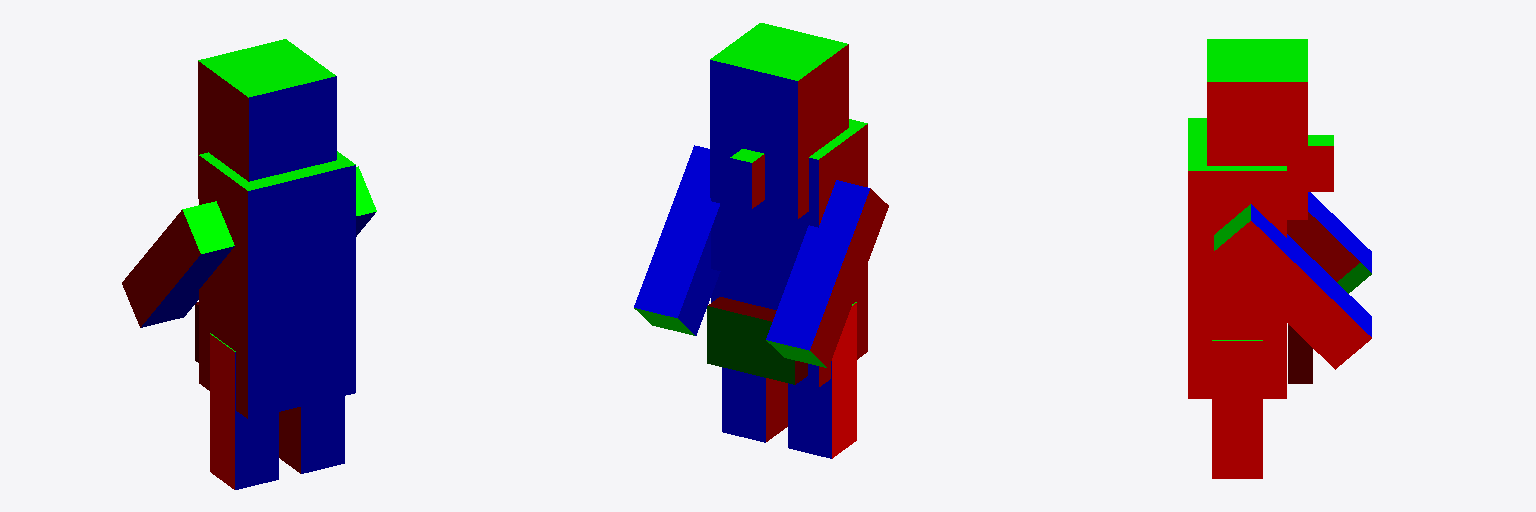
The picture shows the model from 3 angles: view 1: azimuth 30°, elevation 25°; view 2: azimuth 150°, elevation 25°; view 3: azimuth 270°, elevation 25°; orthographic projection.
Parts seen in each view (by area): view 1: ChunkerShirt, ChunkerHead, ChunkerArmLeft, ChunkerLegLeft, ChunkerLegRight, ChunkerArmRight; view 2: ChunkerHead, ChunkerShirt, ChunkerArmLeft, ChunkerArmRight, ChunkerLegLeft, cube, ChunkerLegRight, ChunkerNose; view 3: ChunkerShirt, ChunkerHead, ChunkerArmRight, ChunkerLegRight, ChunkerArmLeft, ChunkerNose, cube.
Boxes of the visible parts, box(x1,y1,x2,y2) form: ChunkerShirt: box(199, 151, 355, 418); ChunkerHead: box(198, 39, 336, 198); ChunkerArmLeft: box(122, 201, 234, 327); ChunkerLegLeft: box(210, 333, 278, 489); ChunkerLegRight: box(279, 396, 344, 473); ChunkerArmRight: box(356, 166, 376, 236); ChunkerHead: box(710, 23, 848, 218); ChunkerShirt: box(711, 119, 867, 387); ChunkerArmLeft: box(766, 180, 888, 368); ChunkerArmRight: box(634, 145, 720, 335); ChunkerLegLeft: box(788, 302, 856, 458); cube: box(707, 297, 807, 384); ChunkerLegRight: box(722, 367, 787, 442); ChunkerNose: box(730, 149, 764, 208); ChunkerShirt: box(1188, 118, 1286, 398); ChunkerHead: box(1207, 39, 1307, 219); ChunkerArmRight: box(1214, 204, 1371, 369); ChunkerLegRight: box(1212, 340, 1262, 478); ChunkerArmLeft: box(1287, 192, 1371, 293); ChunkerNose: box(1308, 135, 1333, 191); cube: box(1288, 324, 1312, 383).
Size of the model in its own units: 1 by 2.12 by 0.9089.
1 materials, 1 textured.